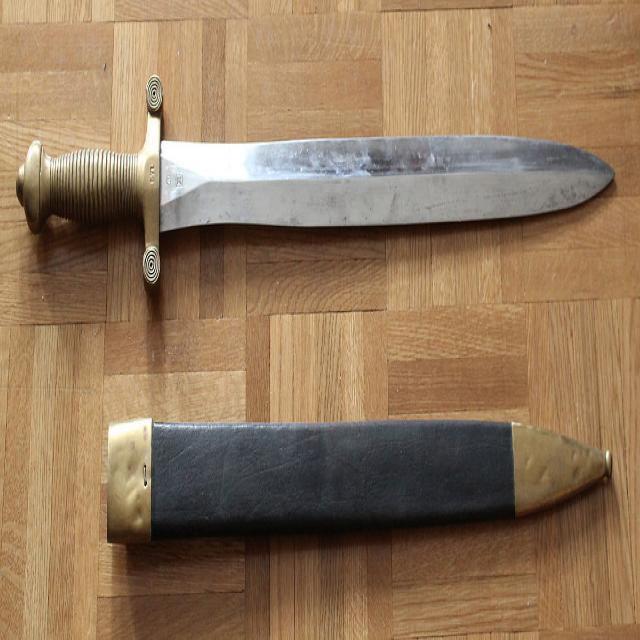scabbard: (97, 398, 618, 561)
sword: (11, 71, 621, 294)
